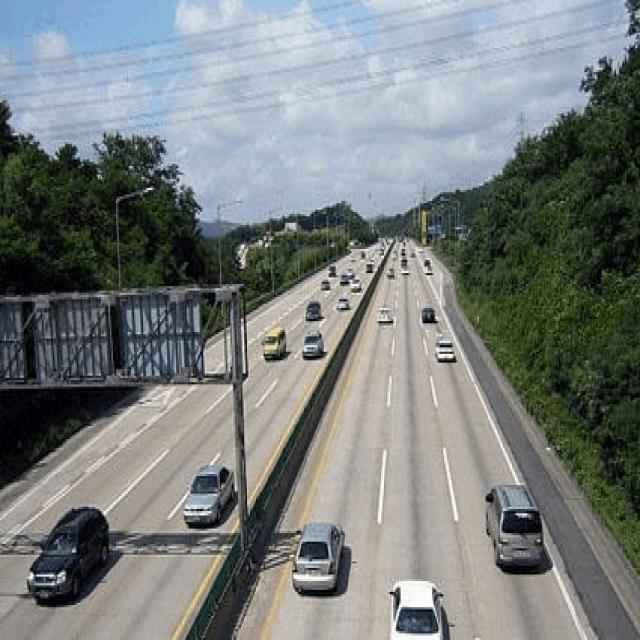point: (325, 167, 452, 309)
